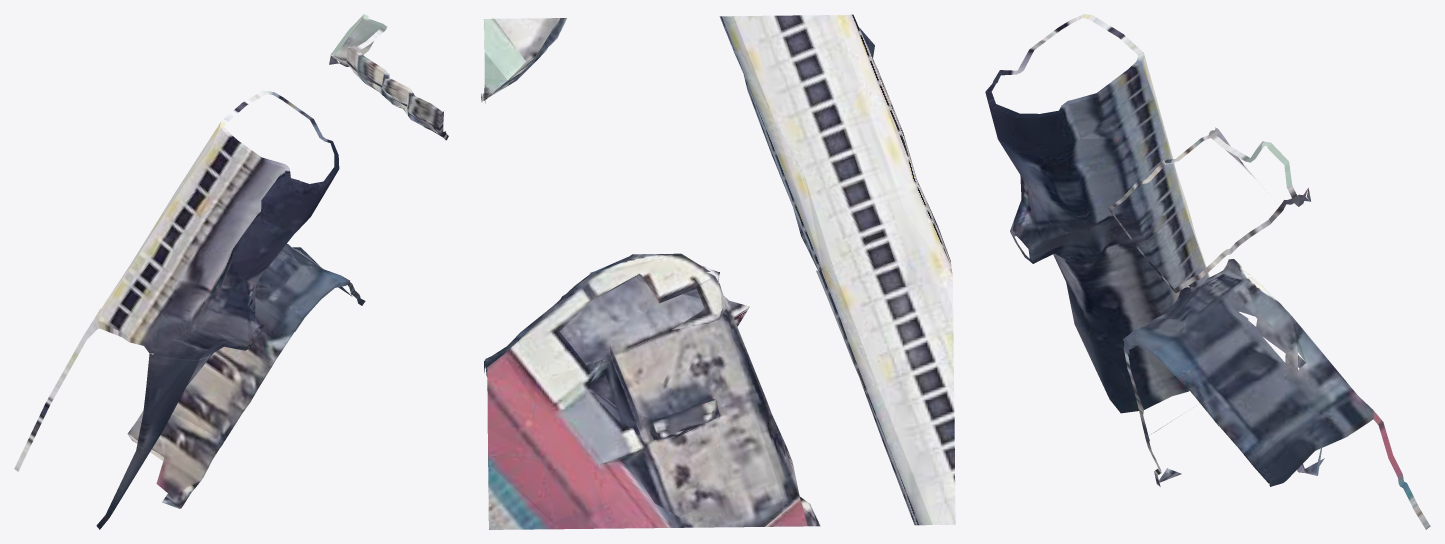
The picture shows the model from 3 angles, left to right: view 1: azimuth 30°, elevation 25°; view 2: azimuth 150°, elevation 25°; view 3: azimuth 270°, elevation 25°; orthographic projection. The views are drawn at different scales.
Size of the model in its own units: 42.75 by 39.91 by 33.61.
2 materials, 2 textured.
